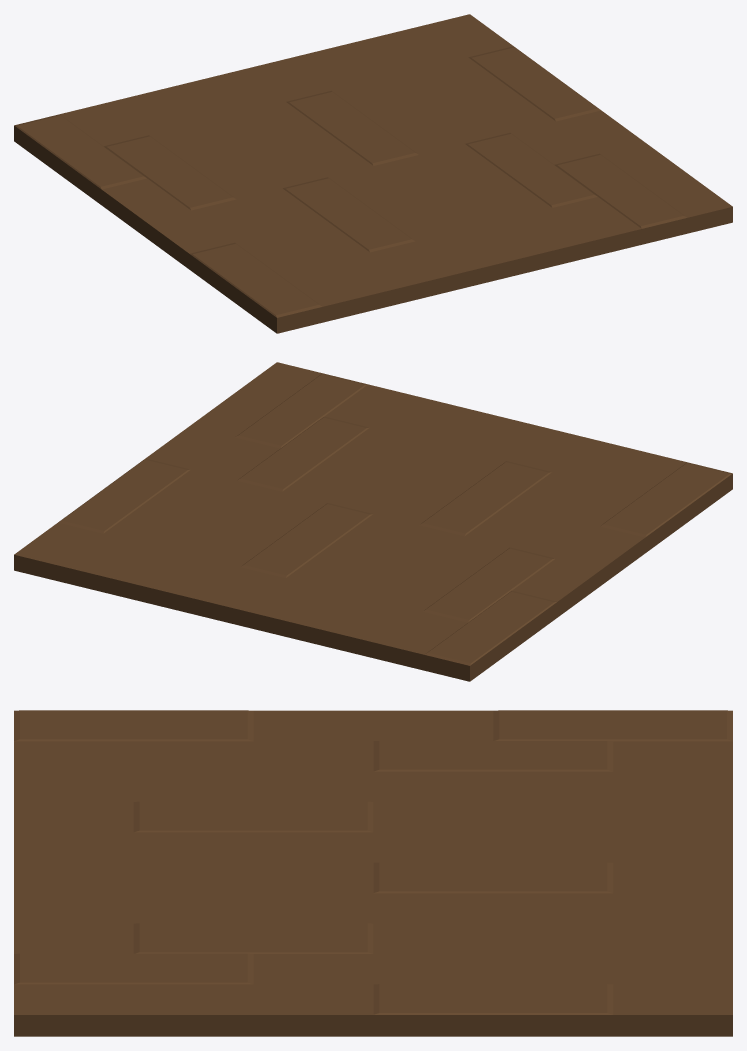
Rendered from buildings_house-floor-parquet-3x3m.fbx.
3 views of the same model, one above another, from view 1: azimuth 30°, elevation 25°; view 2: azimuth 150°, elevation 25°; view 3: azimuth 270°, elevation 25° (orthographic). The views are drawn at different scales.
Visible parts, largest first — view 1: buildings_house_floor_parquet_3x3m; view 2: buildings_house_floor_parquet_3x3m; view 3: buildings_house_floor_parquet_3x3m.
Part boxes in pixels (bbox=[...]): buildings_house_floor_parquet_3x3m: bbox=[14, 14, 732, 333]; buildings_house_floor_parquet_3x3m: bbox=[14, 362, 732, 681]; buildings_house_floor_parquet_3x3m: bbox=[14, 710, 732, 1036].
Size of the model in its own units: 200 by 7 by 200.
